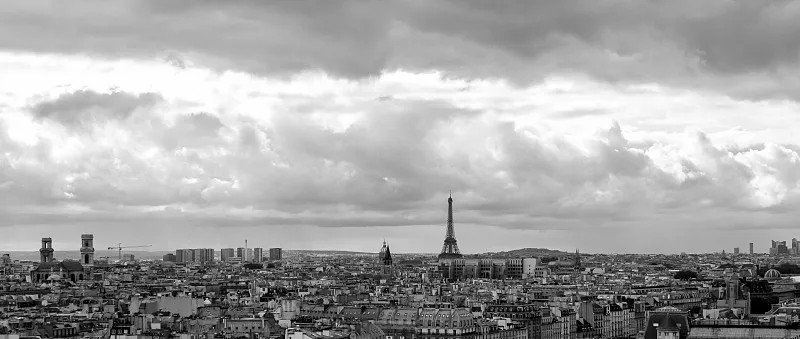Eiffel: (437, 190, 462, 263)
